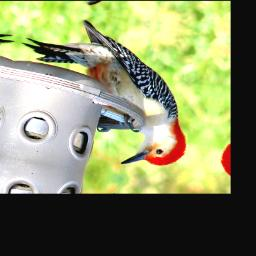Woodpecker: (0, 8, 211, 176)
